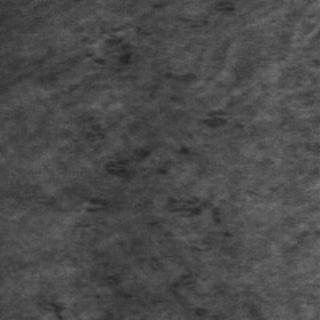rolled pit: (72, 79, 230, 219)
